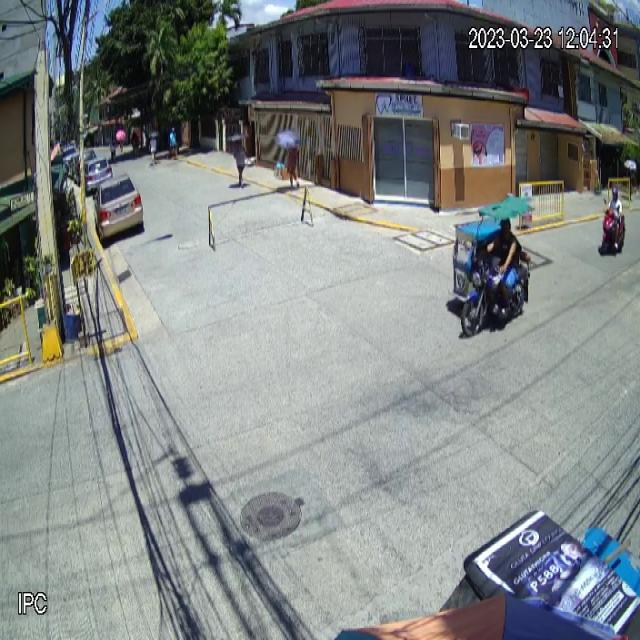Tricycle: (450, 195, 536, 339)
